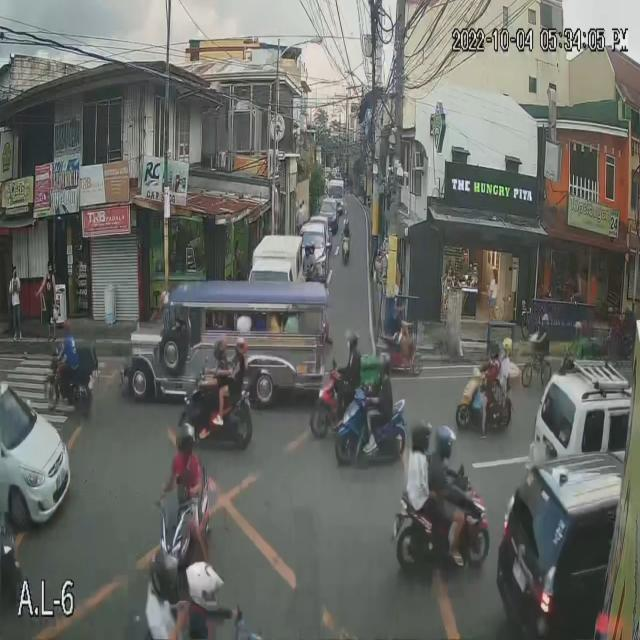full: (186, 561, 223, 614), (433, 420, 456, 459), (174, 421, 195, 463), (213, 336, 228, 362), (488, 338, 501, 360)
half: (150, 549, 180, 603), (411, 414, 433, 455), (500, 333, 514, 358), (345, 330, 359, 350), (234, 336, 248, 354)
